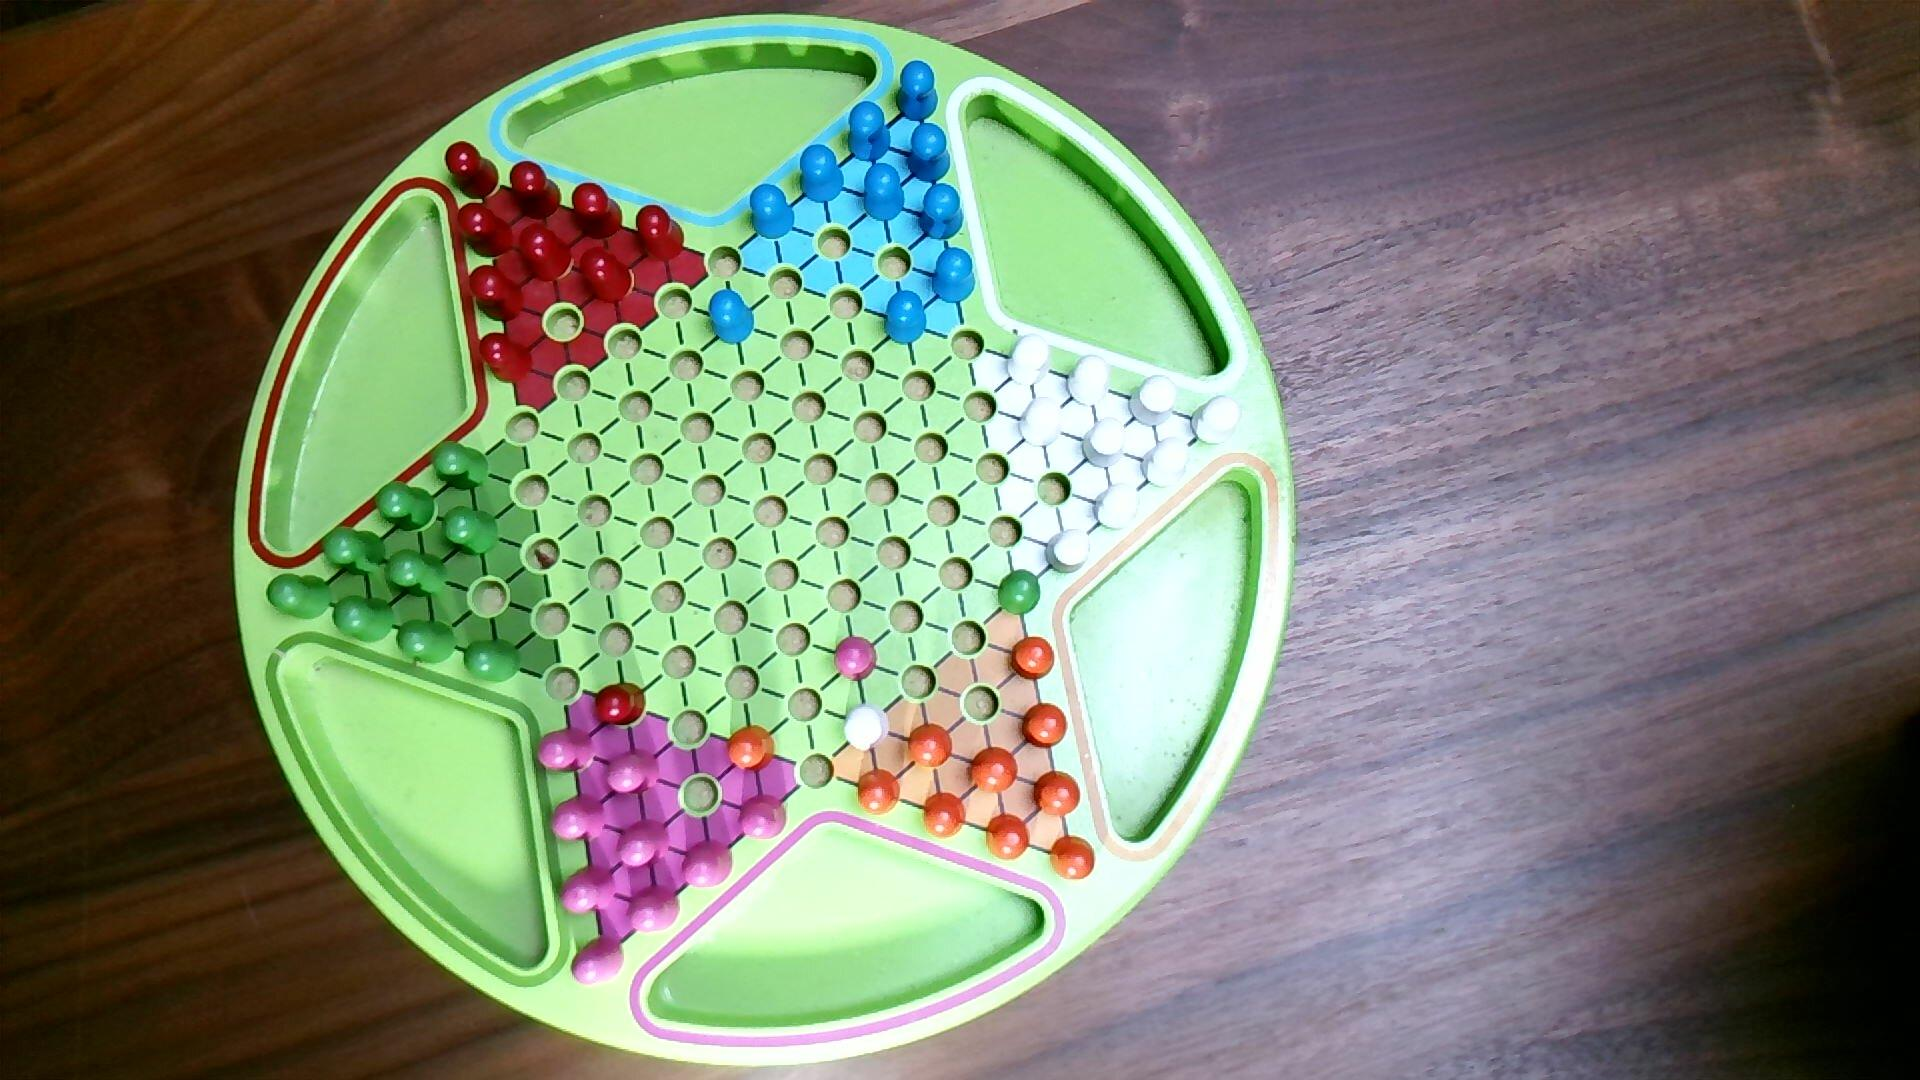B: (894, 59, 942, 124), (705, 287, 757, 347), (906, 123, 953, 186), (918, 182, 967, 243), (799, 144, 847, 206), (847, 102, 893, 165), (882, 289, 931, 348), (930, 247, 978, 306), (748, 183, 796, 243), (861, 162, 907, 224)
G: (319, 524, 388, 578), (372, 479, 436, 534), (429, 438, 492, 493), (382, 549, 450, 600), (264, 572, 334, 621), (440, 506, 502, 559), (331, 595, 396, 645), (396, 618, 458, 666), (463, 638, 524, 684), (997, 568, 1043, 618)
O: (725, 723, 779, 775), (967, 745, 1021, 796), (1047, 833, 1098, 884), (1031, 770, 1083, 820), (982, 812, 1033, 862), (905, 721, 955, 771), (1021, 702, 1071, 752), (1007, 634, 1058, 684), (922, 791, 969, 843), (855, 767, 902, 818)
R: (467, 264, 526, 324), (516, 222, 574, 284), (444, 140, 502, 202), (454, 203, 516, 260), (509, 160, 564, 222), (578, 247, 636, 305), (571, 181, 624, 243), (477, 331, 535, 386), (634, 204, 687, 264), (592, 680, 647, 729)
R2: (534, 725, 599, 777), (556, 864, 618, 916), (615, 818, 674, 872), (550, 793, 608, 847), (678, 837, 736, 890), (570, 934, 626, 986), (625, 884, 683, 935), (604, 749, 662, 799), (737, 793, 790, 843), (833, 634, 880, 684)
W: (1189, 393, 1245, 448), (1139, 436, 1192, 492), (1127, 375, 1180, 429), (1091, 483, 1143, 534), (1017, 396, 1067, 450), (1081, 415, 1129, 471), (843, 703, 891, 756), (1006, 334, 1054, 388), (1065, 353, 1112, 409), (1044, 527, 1092, 576)
